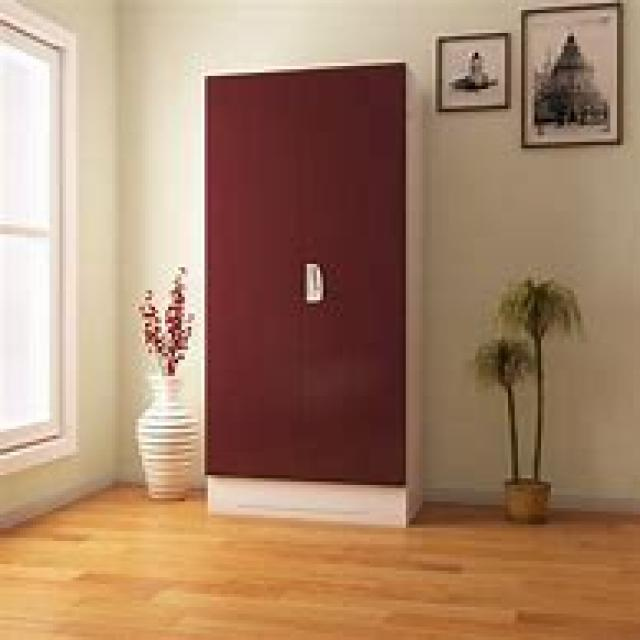dolap: (201, 59, 419, 524)
